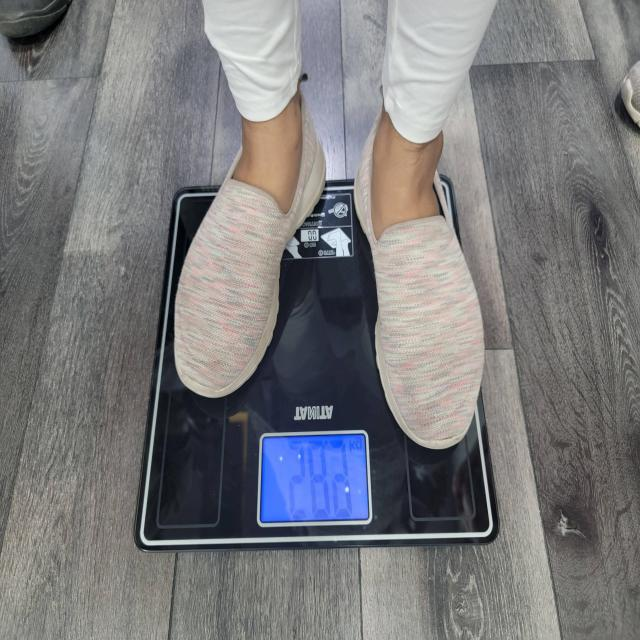ws: (256, 431, 372, 530)
